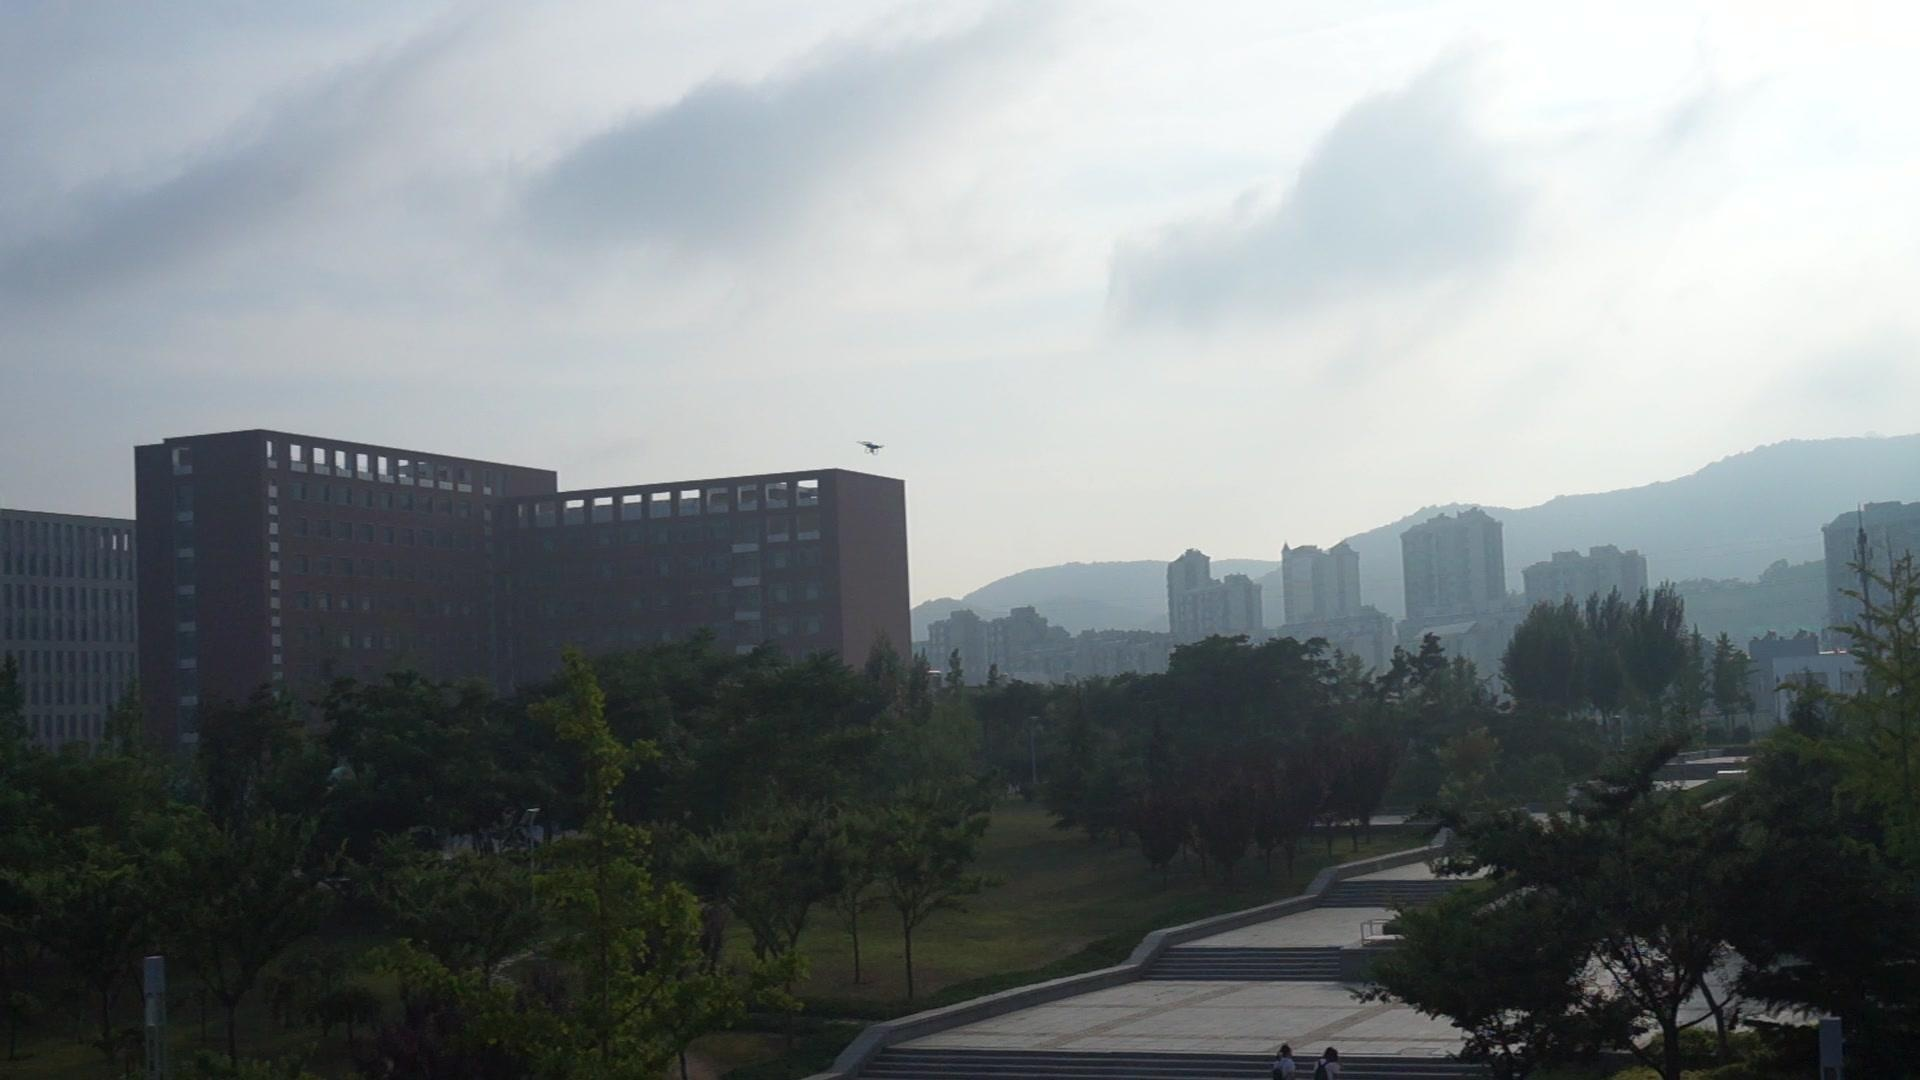UAV: (857, 440, 887, 458)
